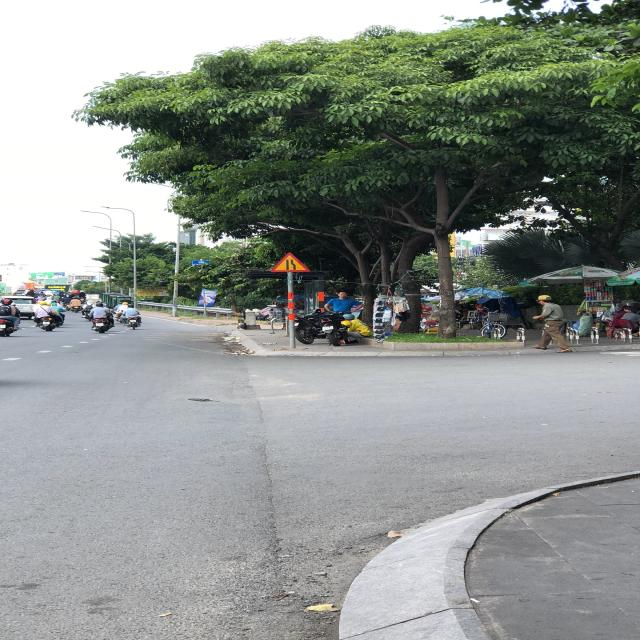Bien bao duong bi thu hep: (268, 250, 318, 276)
